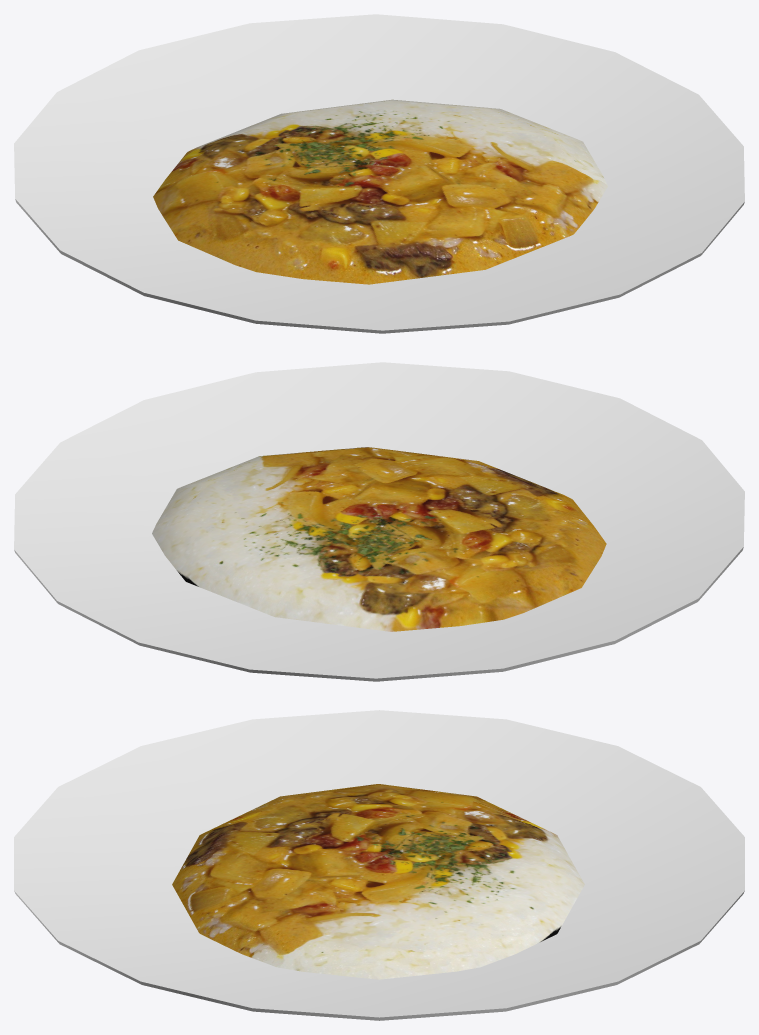
The model's file is kury.FBX.
The picture shows the model from 3 angles, top to bottom: view 1: azimuth 30°, elevation 25°; view 2: azimuth 150°, elevation 25°; view 3: azimuth 270°, elevation 25°; orthographic projection.
Parts seen in each view (by area): view 1: Cylinder003; view 2: Cylinder003; view 3: Cylinder003.
Boxes of the visible parts, x1,y1,x2,y2 form: Cylinder003: (14, 14, 744, 333); Cylinder003: (14, 362, 744, 681); Cylinder003: (14, 710, 744, 1020).
Size of the model in its own units: 29.94 by 2.43 by 30.09.
